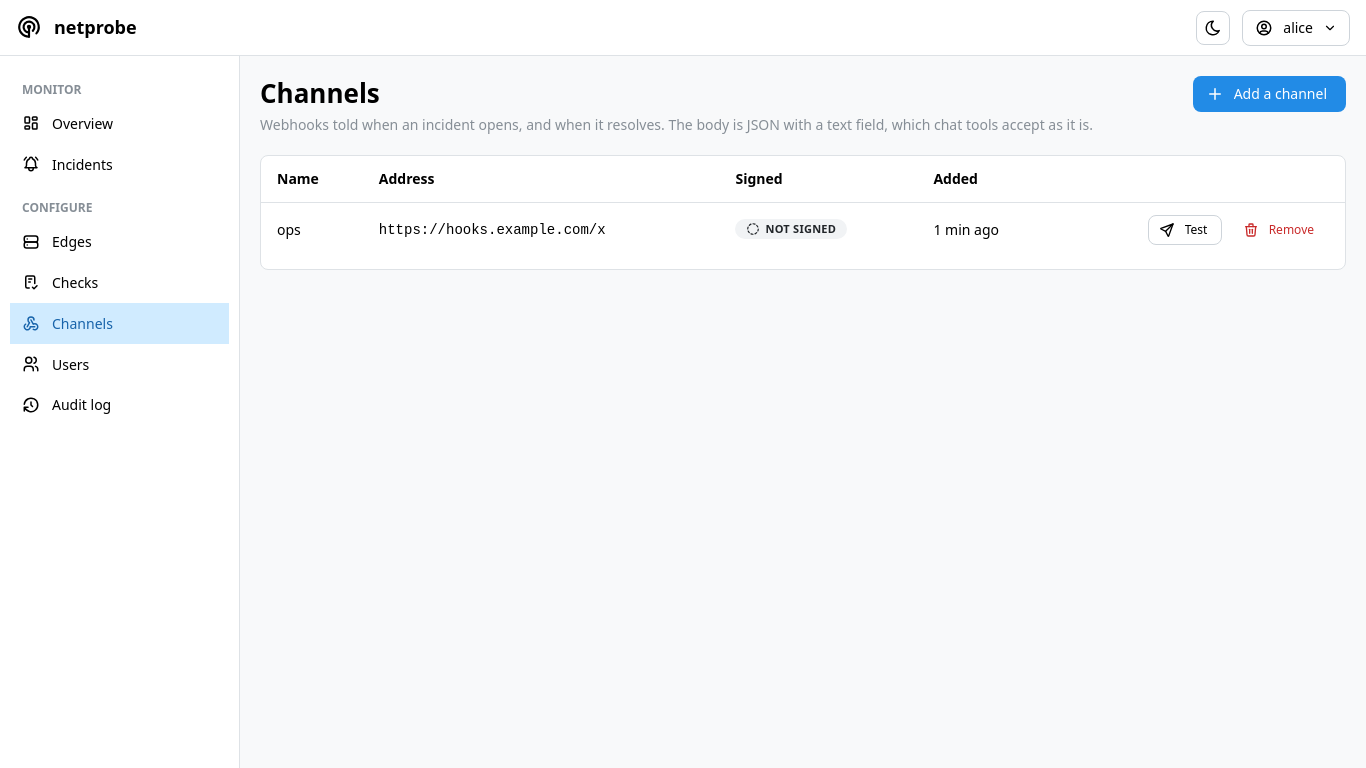
Test: channels › says why a test failed
Click the button with aria-label "Send a test to ops".
click(1185, 230)  # box [1148,215,1222,245]
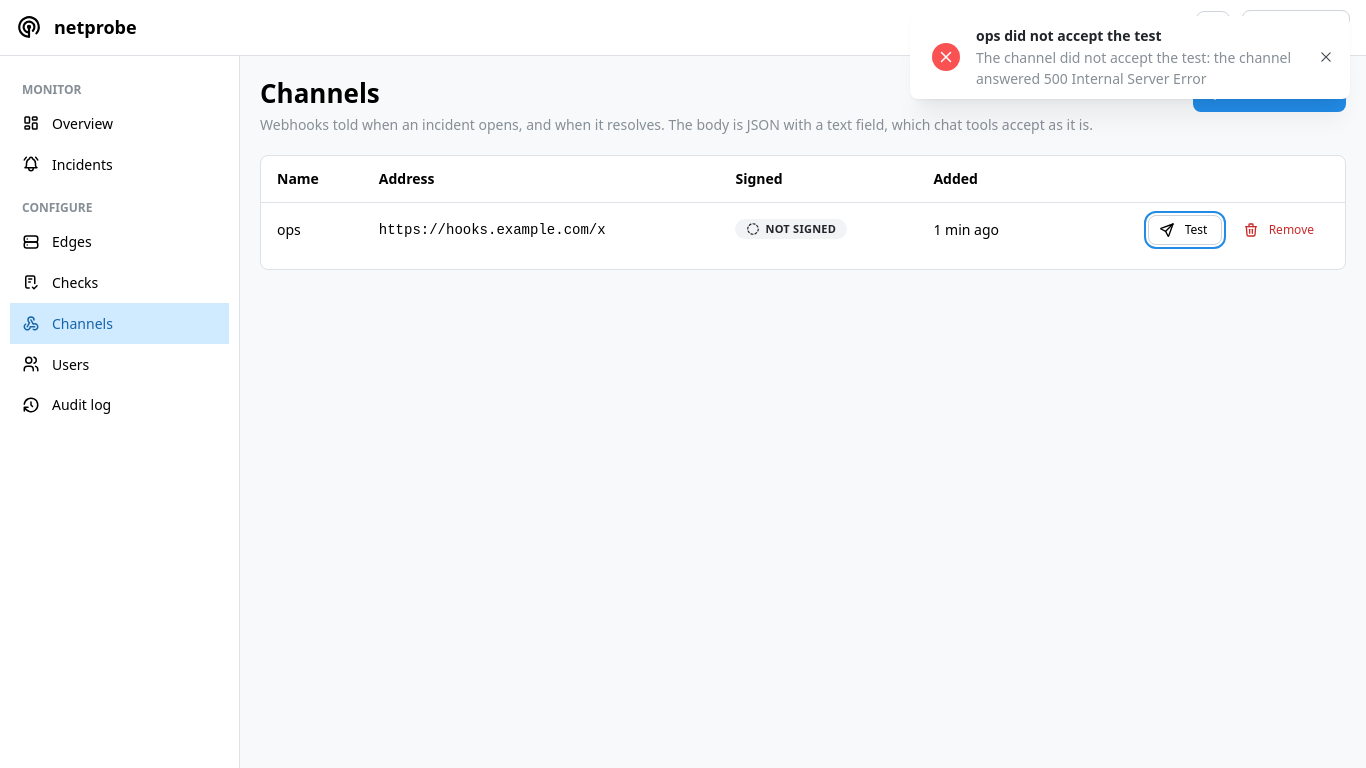
Expected: the text "answered 500 Internal Server Error" is shown, [976,48,1291,88]
